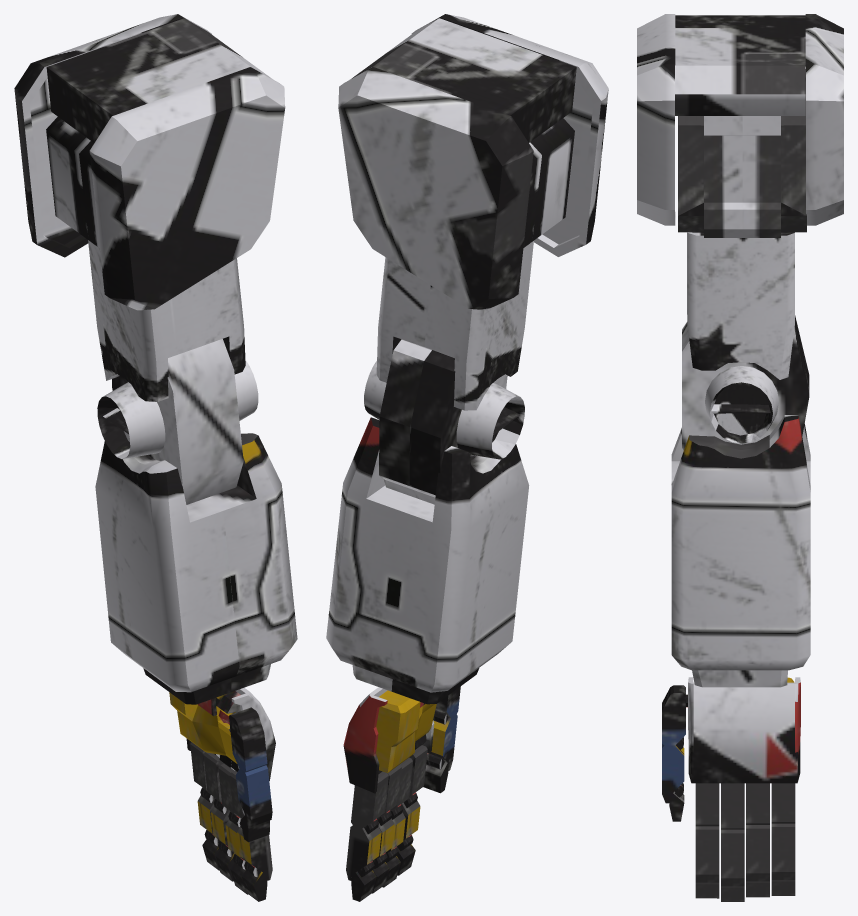
File: handA.obj
3 views of the same model, side by side, from view 1: azimuth 30°, elevation 25°; view 2: azimuth 150°, elevation 25°; view 3: azimuth 270°, elevation 25° (orthographic). The views are drawn at different scales.
Visible parts, largest first — view 1: Gundam:polySurface666; view 2: Gundam:polySurface666; view 3: Gundam:polySurface666.
Boxes of the visible parts, x1=… form: Gundam:polySurface666: x1=14, y1=14, x2=297, y2=901; Gundam:polySurface666: x1=326, y1=14, x2=608, y2=901; Gundam:polySurface666: x1=637, y1=14, x2=843, y2=901.
Size of the model in its own units: 3.15 by 12.02 by 2.73.
Materials: 1 (1 with a texture image).
